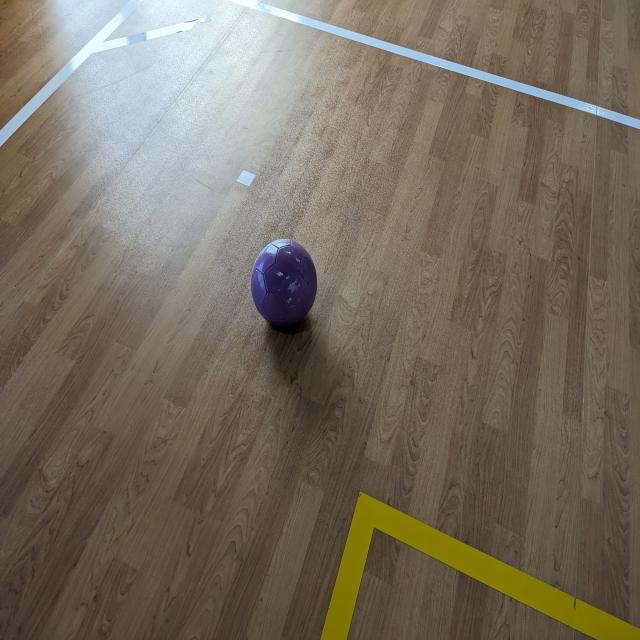purple_ball: (249, 235, 319, 332)
